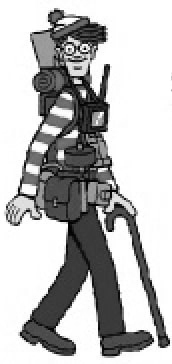Waldo: (7, 5, 169, 356)
